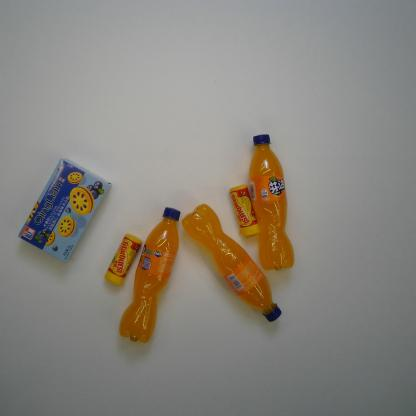Candy: (104, 233, 142, 287), (229, 184, 260, 237)
Dessert: (17, 157, 112, 264)
Drink: (181, 203, 283, 322), (118, 206, 181, 344), (248, 133, 296, 272)
